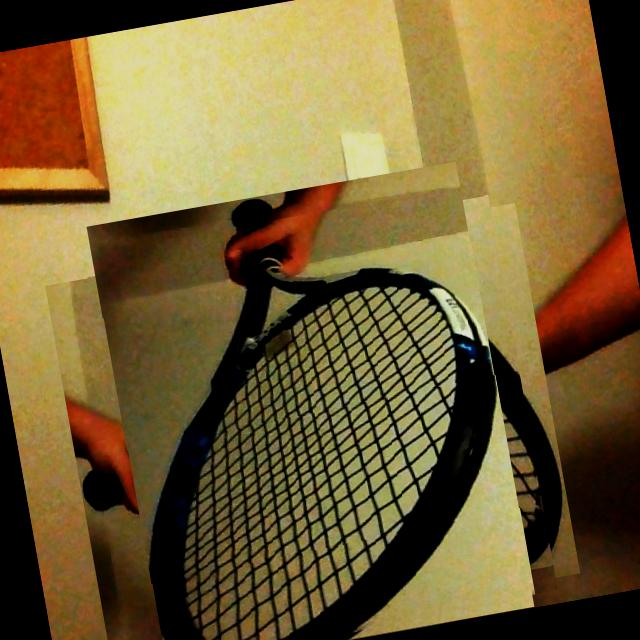TennisRacket: (65, 182, 559, 640)
